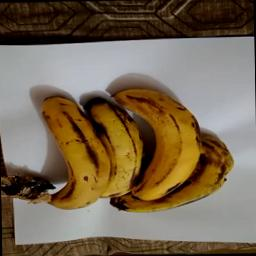Banana Unripe: (10, 93, 236, 220)
